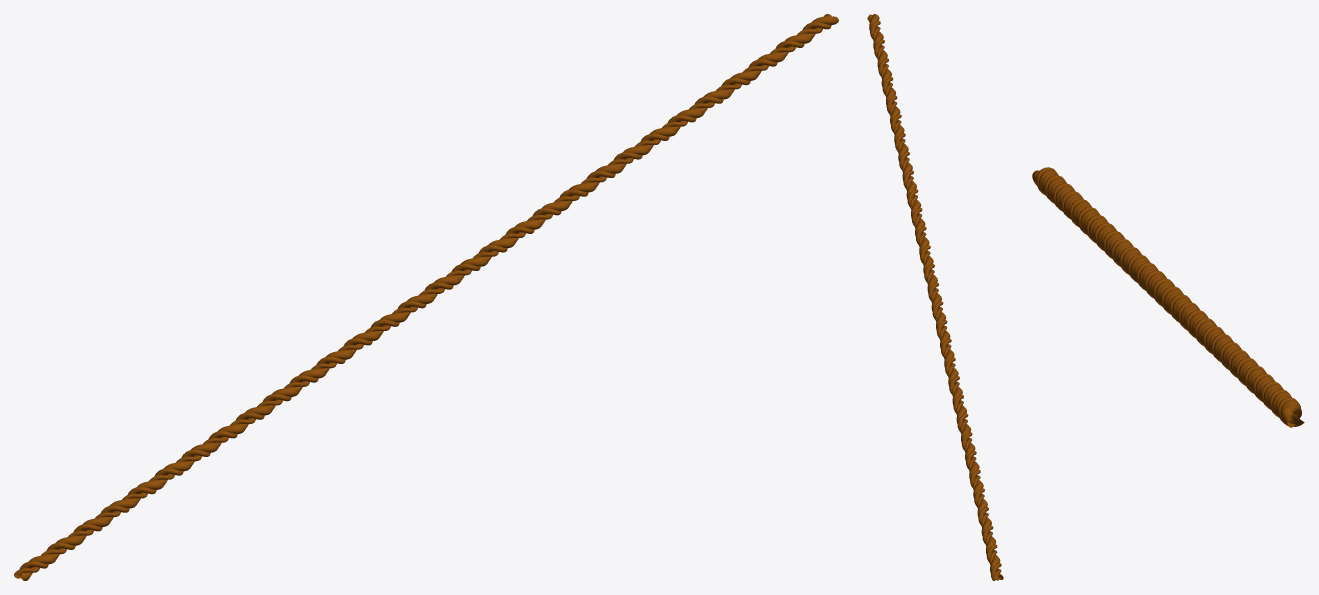
Rendered from String.fbx.
3 views of the same model, side by side, from view 1: azimuth 90°, elevation 25°; view 2: azimuth 150°, elevation 25°; view 3: azimuth 330°, elevation 25° (orthographic). The views are drawn at different scales.
Parts seen in each view (by area): view 1: Circle.001; view 2: Circle.001; view 3: Circle.001.
Part boxes in pixels (left/top/right/bottom): Circle.001: left=14, top=14, right=838, bottom=580; Circle.001: left=867, top=14, right=1003, bottom=580; Circle.001: left=1032, top=167, right=1304, bottom=427.
Size of the model in its own units: 3664 by 1771 by 4531.
